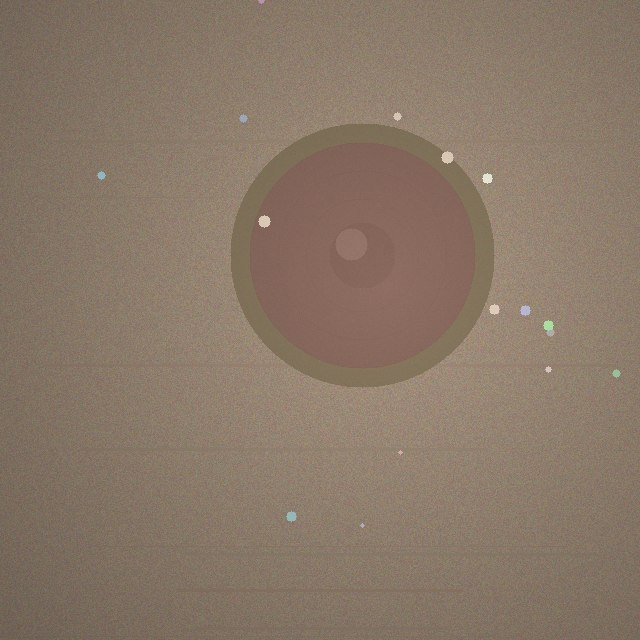overburn: (230, 123, 494, 387)
